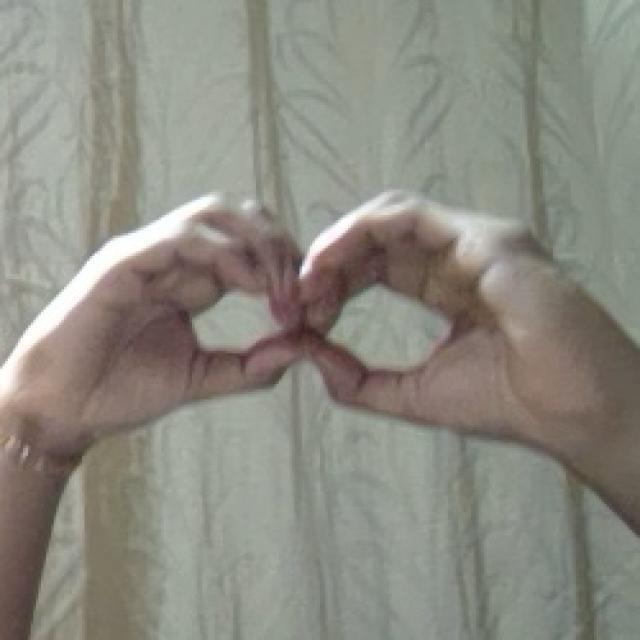Alphabet-B: (28, 180, 612, 462)
